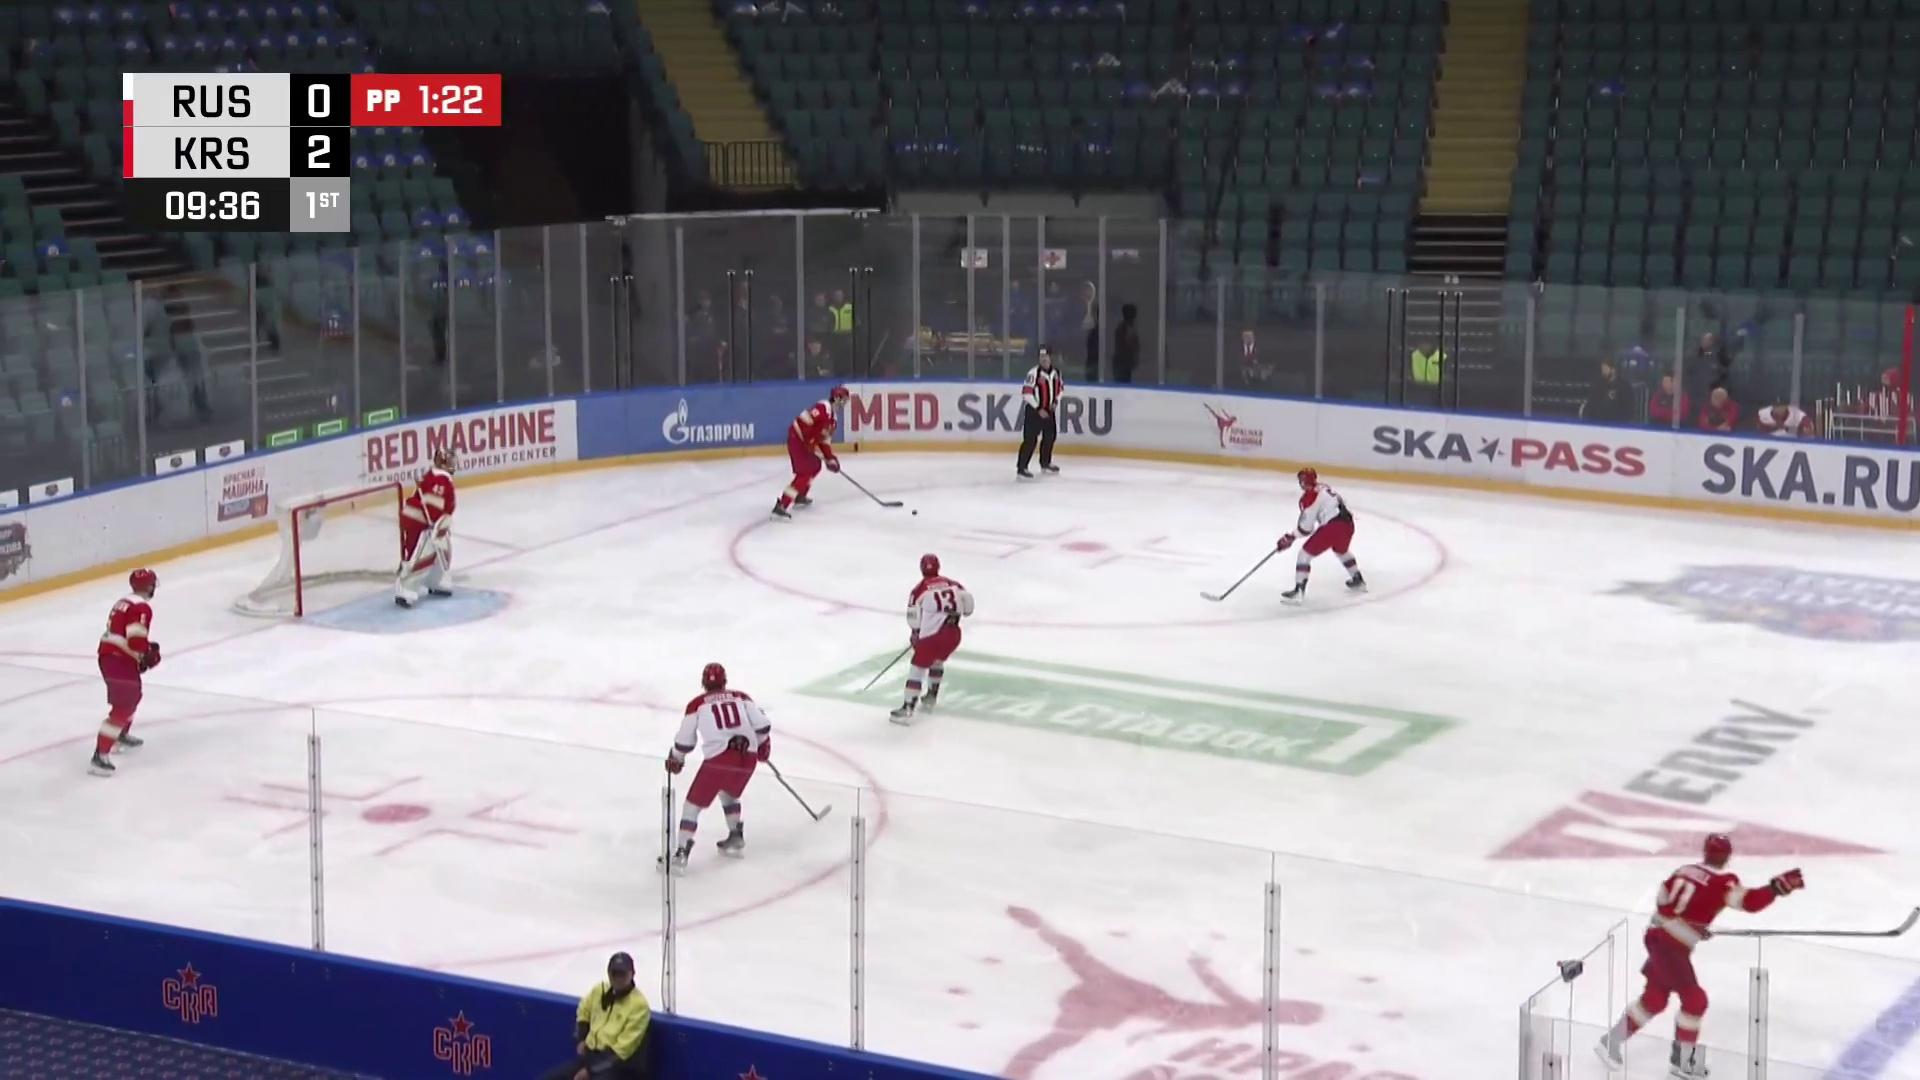ball: (911, 508, 919, 517)
